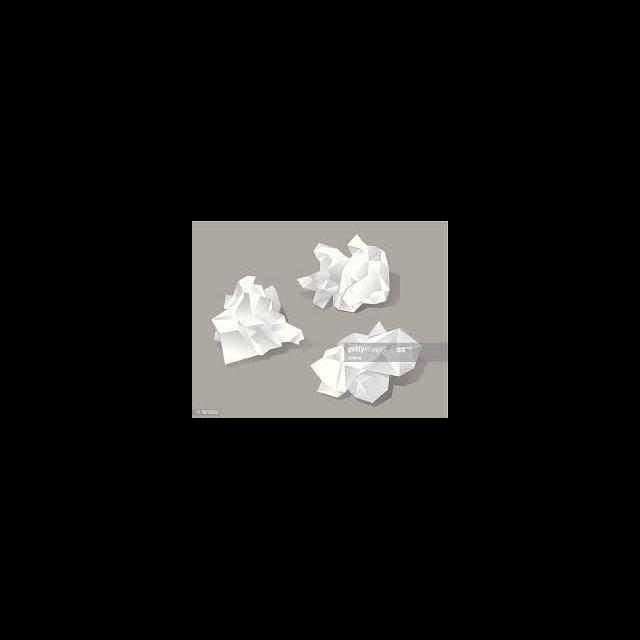paper: (310, 321, 421, 402), (210, 274, 303, 364), (295, 232, 389, 312)
